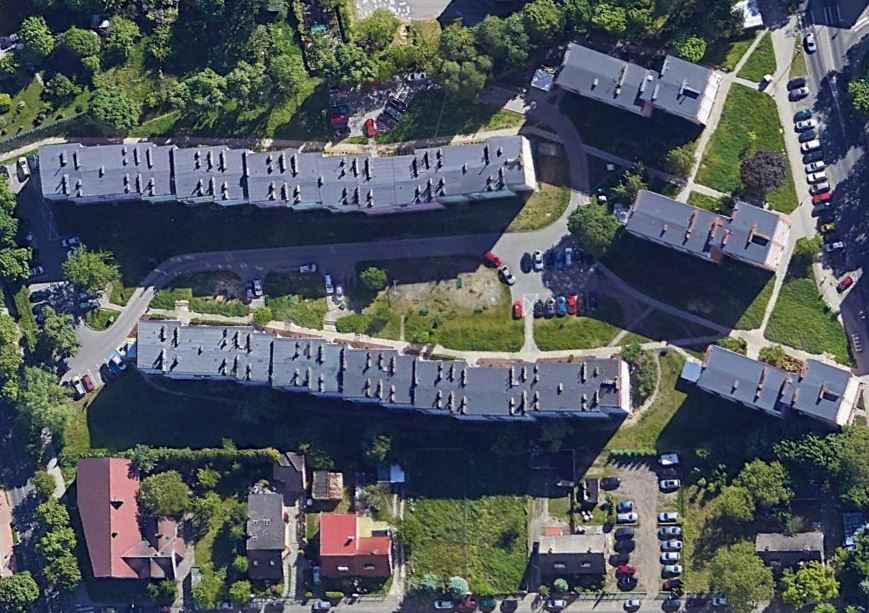block of flats: (130, 312, 634, 427), (33, 134, 541, 217), (674, 341, 864, 437), (617, 181, 794, 277), (552, 33, 728, 127)
family house: (69, 451, 185, 588), (316, 509, 396, 581), (242, 487, 287, 581)
garage: (534, 529, 617, 582), (749, 527, 829, 571)
